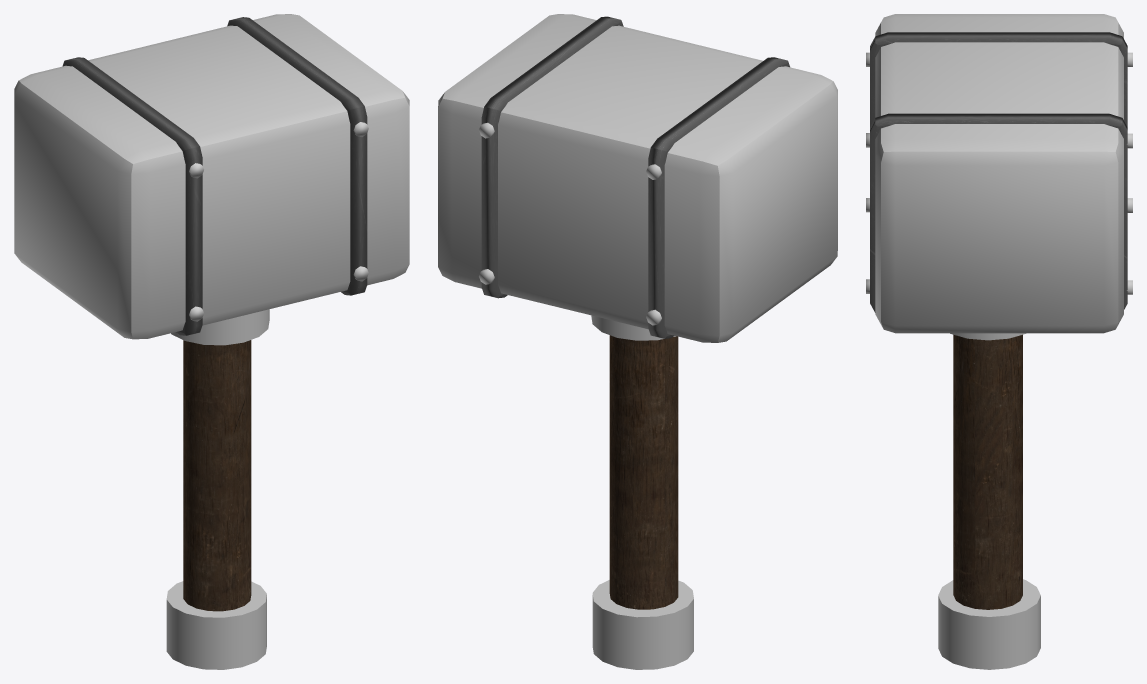
The model's file is Hummer_1.fbx.
3 renders of one model, left to right at view 1: azimuth 30°, elevation 25°; view 2: azimuth 150°, elevation 25°; view 3: azimuth 270°, elevation 25°, orthographic.
Visible parts, largest first — view 1: молот, рукоять, держатели, подставка, болты; view 2: молот, рукоять, держатели, подставка, болты; view 3: молот, рукоять, держатели, подставка, болты.
Boxes of the visible parts, x1,y1,x2,y2 form: молот: [14, 14, 409, 339]; рукоять: [183, 340, 251, 611]; держатели: [62, 17, 367, 335]; подставка: [166, 309, 269, 669]; болты: [189, 122, 368, 321]; молот: [438, 14, 837, 342]; рукоять: [609, 335, 678, 609]; держатели: [481, 16, 789, 338]; подставка: [591, 315, 693, 669]; болты: [479, 122, 661, 325]; молот: [875, 14, 1123, 333]; рукоять: [953, 334, 1022, 609]; держатели: [870, 32, 1127, 312]; подставка: [938, 333, 1040, 669]; болты: [866, 52, 1132, 294].
Size of the model in its own units: 188 by 347 by 147.
